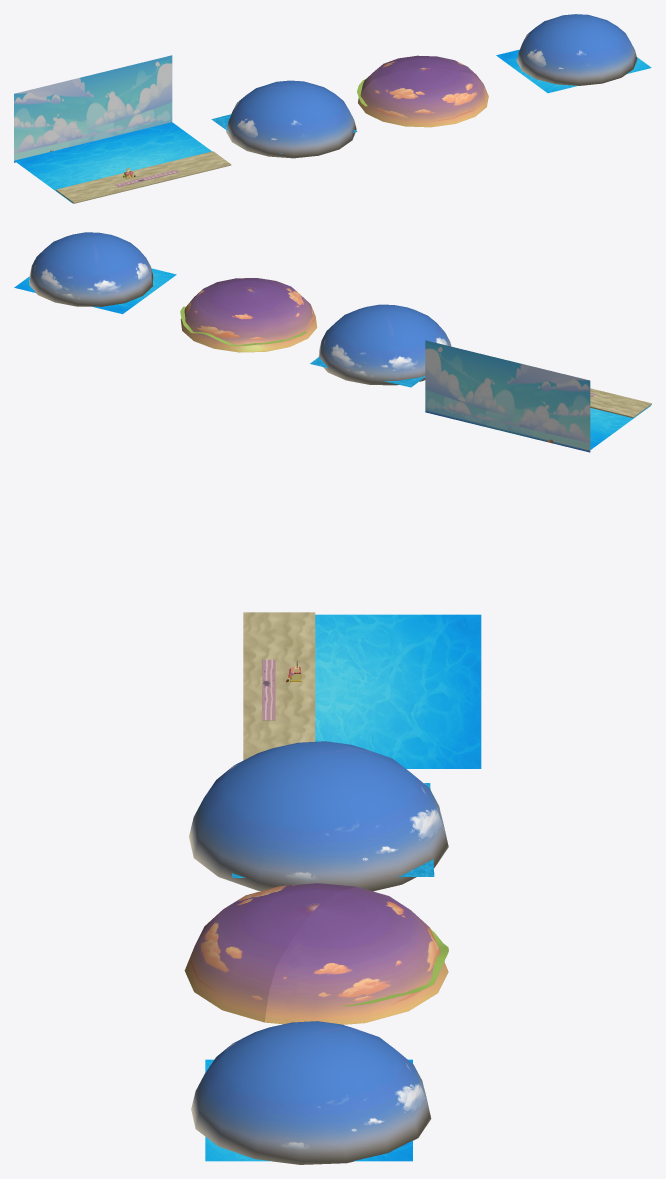
Rendered from Words on the Waves_Map.fbx.
3 views of the same model, one above another, from view 1: azimuth 30°, elevation 25°; view 2: azimuth 150°, elevation 25°; view 3: azimuth 270°, elevation 25° (orthographic). The views are drawn at different scales.
Visible parts, largest first — view 1: Map Nha ga, Map bien, Map tp, Map quan cf, Nha ga; view 2: Map Nha ga, Map tp, Map quan cf, Map bien; view 3: Map Nha ga, Map bien, Map quan cf, Map tp, Nha ga.
Boxes of the visible parts, x1,y1,x2,y2 form: Map Nha ga: [14, 55, 231, 203]; Map bien: [211, 80, 357, 158]; Map tp: [496, 14, 651, 93]; Map quan cf: [357, 55, 488, 127]; Nha ga: [115, 167, 179, 187]; Map Nha ga: [425, 340, 651, 452]; Map tp: [14, 232, 176, 314]; Map quan cf: [180, 278, 317, 352]; Map bien: [310, 304, 451, 387]; Map Nha ga: [243, 612, 481, 768]; Map bien: [189, 741, 448, 891]; Map quan cf: [184, 883, 448, 1024]; Map tp: [191, 1021, 431, 1164]; Nha ga: [262, 659, 301, 720].
Bounding box in the file's own units: 636 × 73.3 × 143.
Materials: 33 (33 with a texture image).
